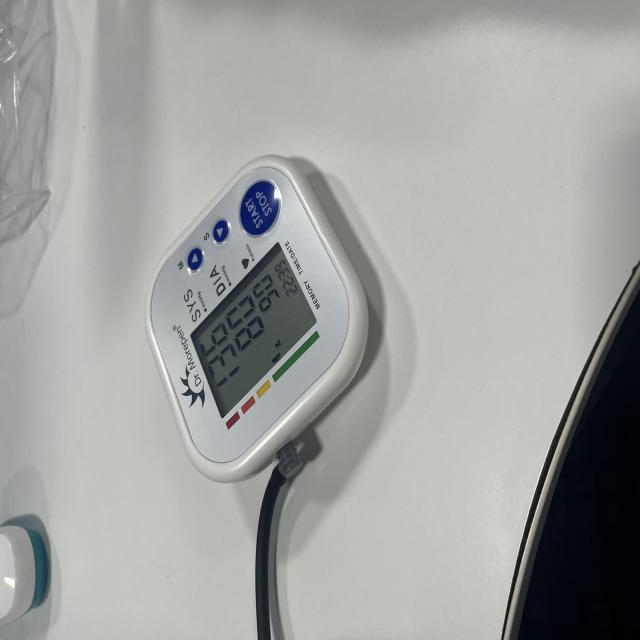bp: (146, 157, 371, 486)
